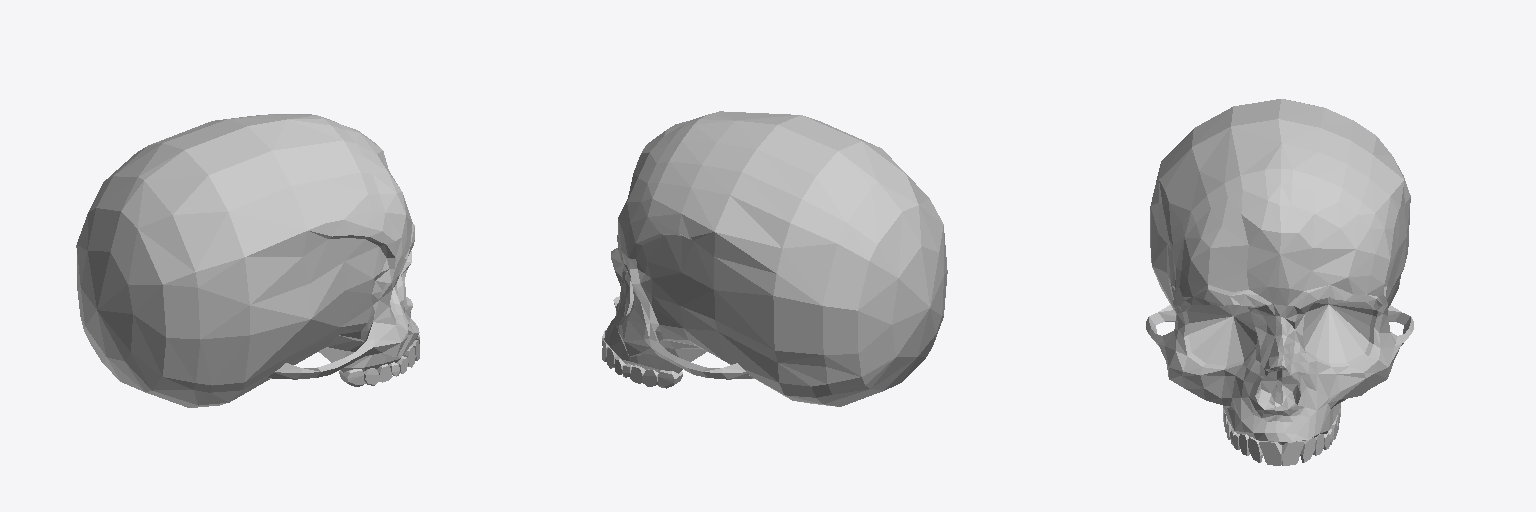
The model's file is Oddball.obj.
3 renders of one model, left to right at view 1: azimuth 30°, elevation 25°; view 2: azimuth 150°, elevation 25°; view 3: azimuth 270°, elevation 25°, orthographic.
Parts seen in each view (by area): view 1: Fp_Oddball:__unnamed; view 2: Fp_Oddball:__unnamed; view 3: Fp_Oddball:__unnamed.
Part boxes in pixels (left/top/right/bottom): Fp_Oddball:__unnamed: left=76, top=114, right=419, bottom=407; Fp_Oddball:__unnamed: left=602, top=111, right=947, bottom=406; Fp_Oddball:__unnamed: left=1146, top=99, right=1413, bottom=465.
Bounding box in the file's own units: 8.19 × 6.47 × 5.92.